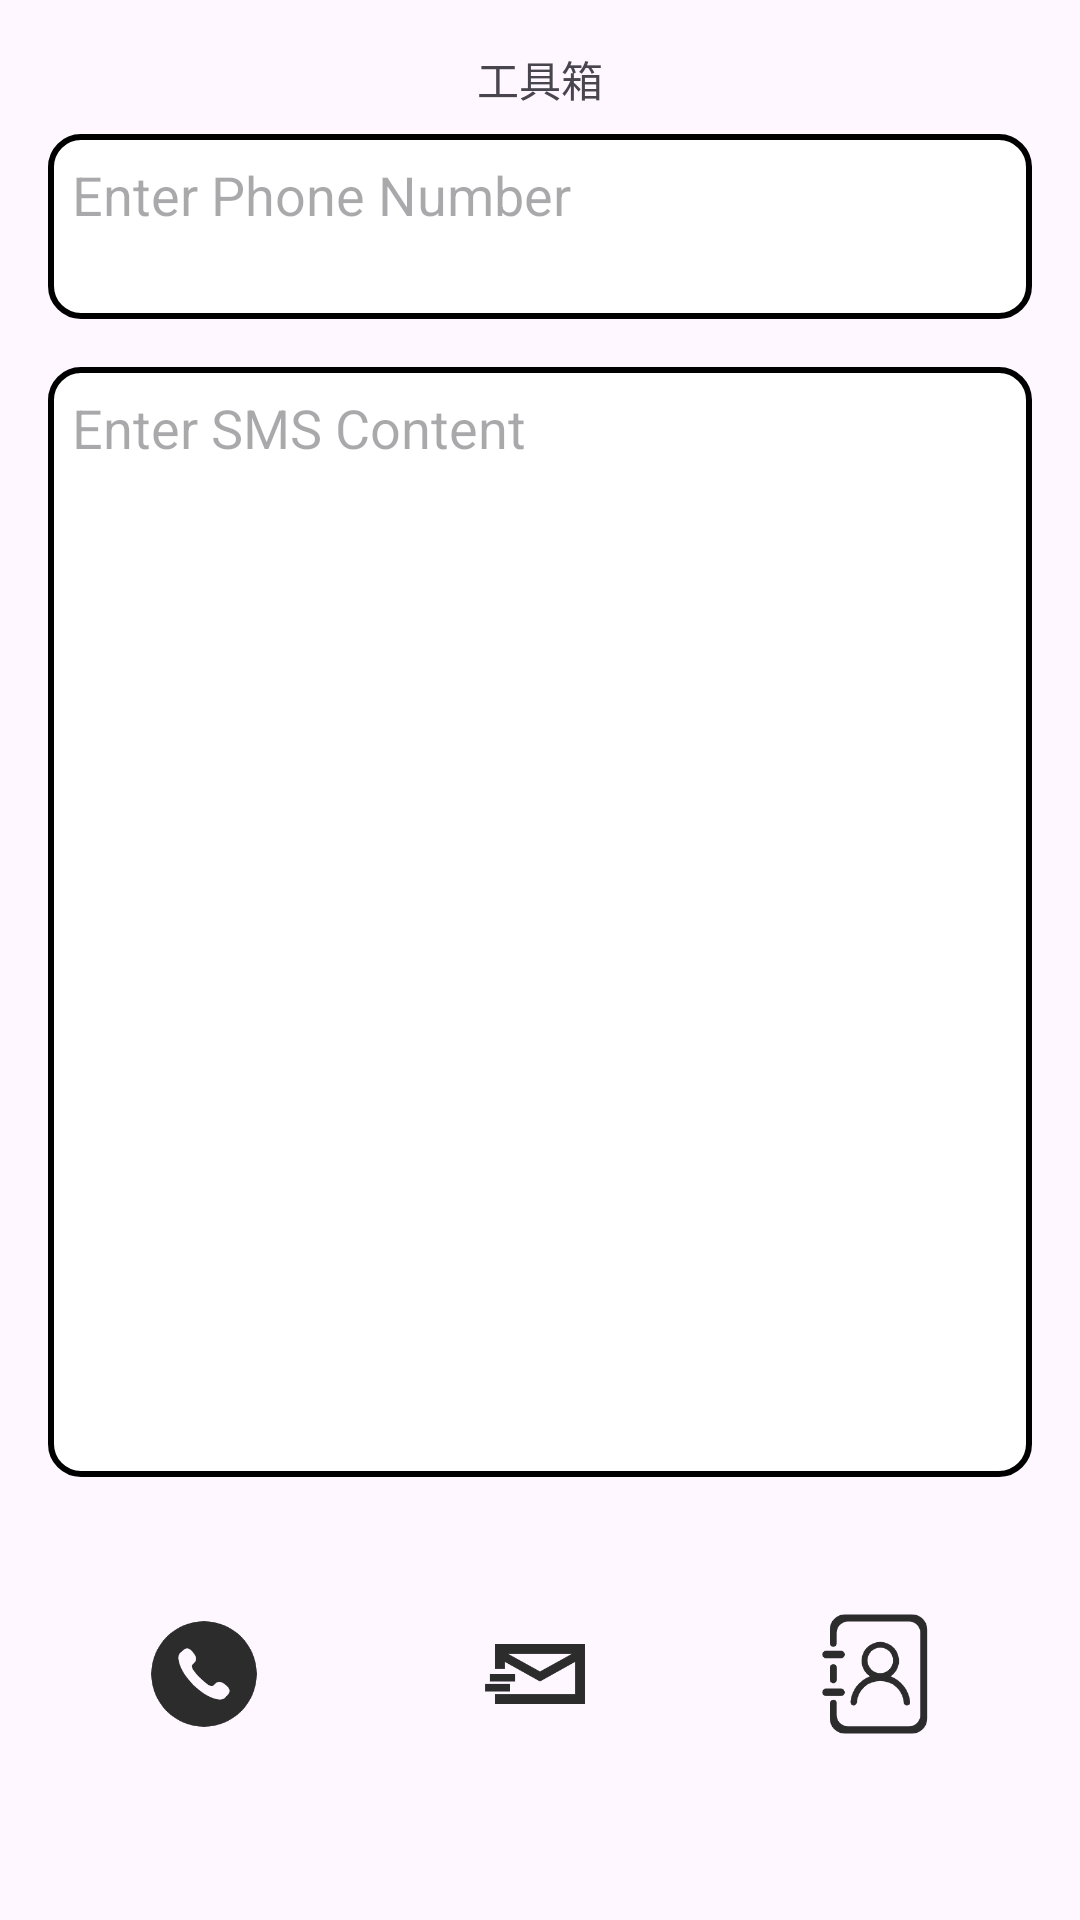

Point at icon controls on the screen. Image size 1080px x 1920px, points as point (x, y).
addressbook: point (875, 1674)
message: point (535, 1674)
phone: point (204, 1674)
